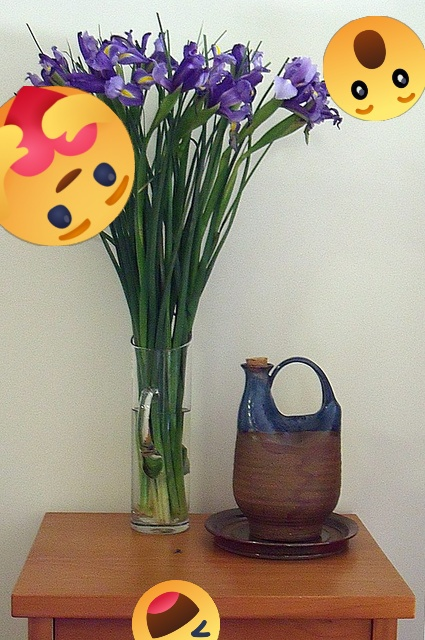care: (0, 86, 135, 246)
haha: (132, 580, 220, 640)
wow: (323, 16, 425, 121)
